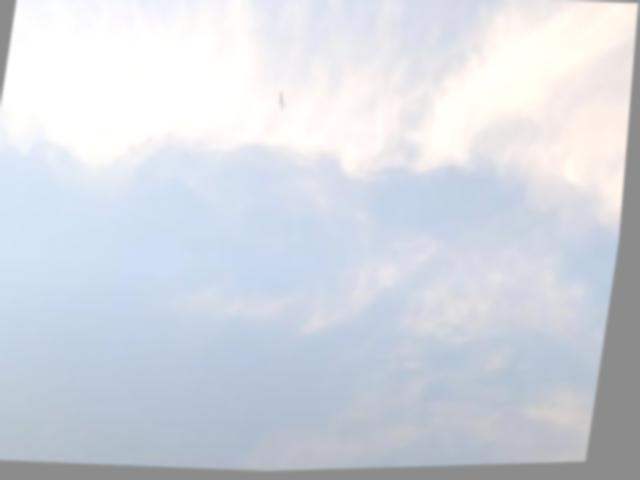iha: (274, 91, 293, 113)
